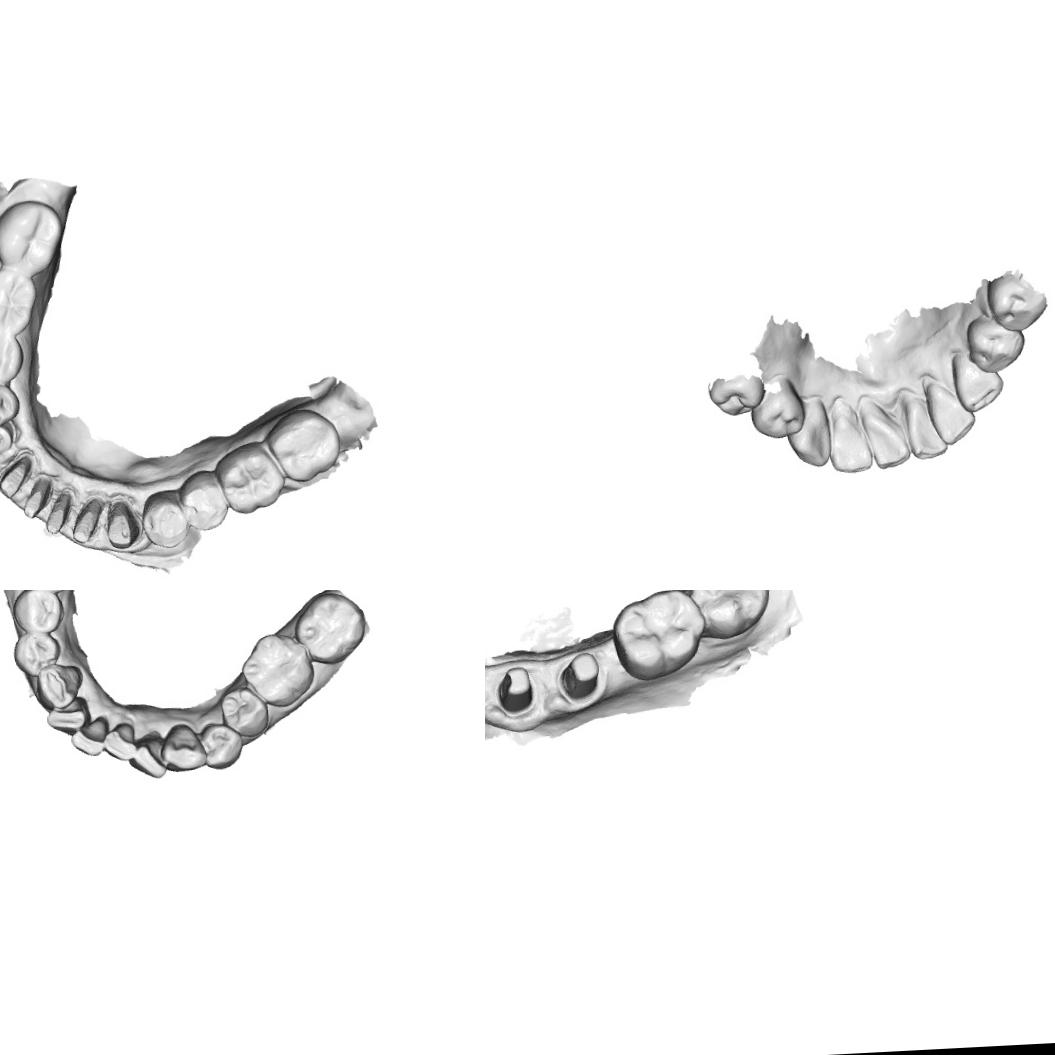abutment: (493, 662, 537, 713), (558, 652, 602, 702)
canine: (949, 350, 1003, 414), (786, 402, 832, 467), (32, 660, 84, 710), (158, 720, 208, 772)
crown: (101, 496, 142, 552), (67, 492, 105, 546), (17, 473, 55, 525), (38, 487, 76, 538), (0, 452, 36, 499)
implant_minus: (0, 421, 16, 455)
incisor: (905, 394, 951, 462), (928, 383, 976, 447), (864, 410, 910, 473), (828, 412, 873, 474), (44, 692, 92, 735), (126, 729, 166, 780), (68, 713, 112, 758), (101, 719, 138, 764)
molar: (609, 590, 705, 683), (262, 405, 343, 485), (238, 629, 318, 710), (290, 590, 368, 667), (212, 437, 286, 517), (0, 195, 66, 277), (685, 590, 773, 641), (0, 262, 41, 338)
premolar: (963, 312, 1024, 374), (984, 271, 1044, 331), (177, 466, 228, 532), (139, 487, 190, 550), (748, 386, 808, 439), (703, 371, 766, 419), (218, 684, 270, 739), (10, 630, 63, 679), (9, 590, 66, 634), (196, 720, 244, 771), (0, 329, 25, 386), (0, 377, 21, 431)
